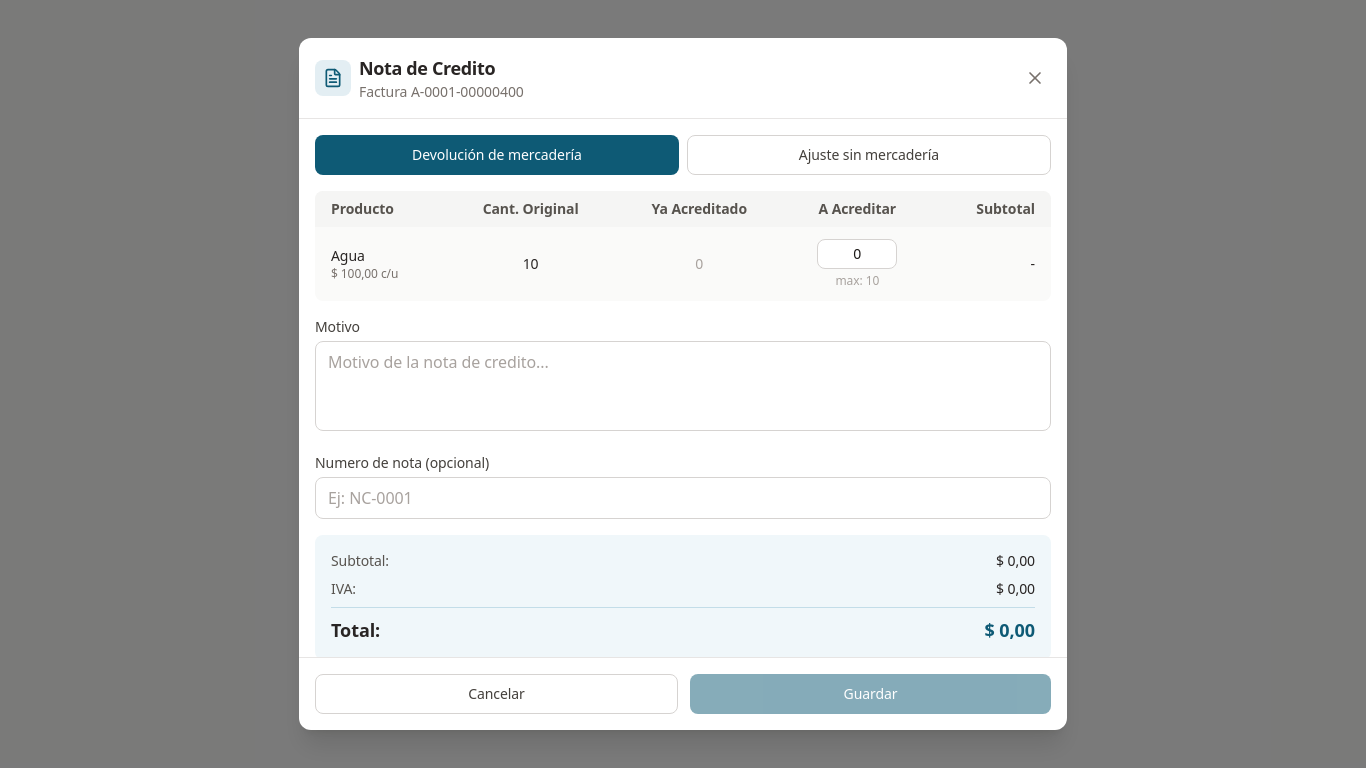
Scenario: ModalNotaCredito — aviso de la devolución cuando hay un ajuste (#1590-c) › un ajuste ANULADO no pone tope: la devolución no muestra el aviso (B18, mig 526)
This screenshot has width=1366, height=768.
In the field named "Cantidad a acreditar de Agua": (857, 254) 817,239 -> 897,269, type "9"
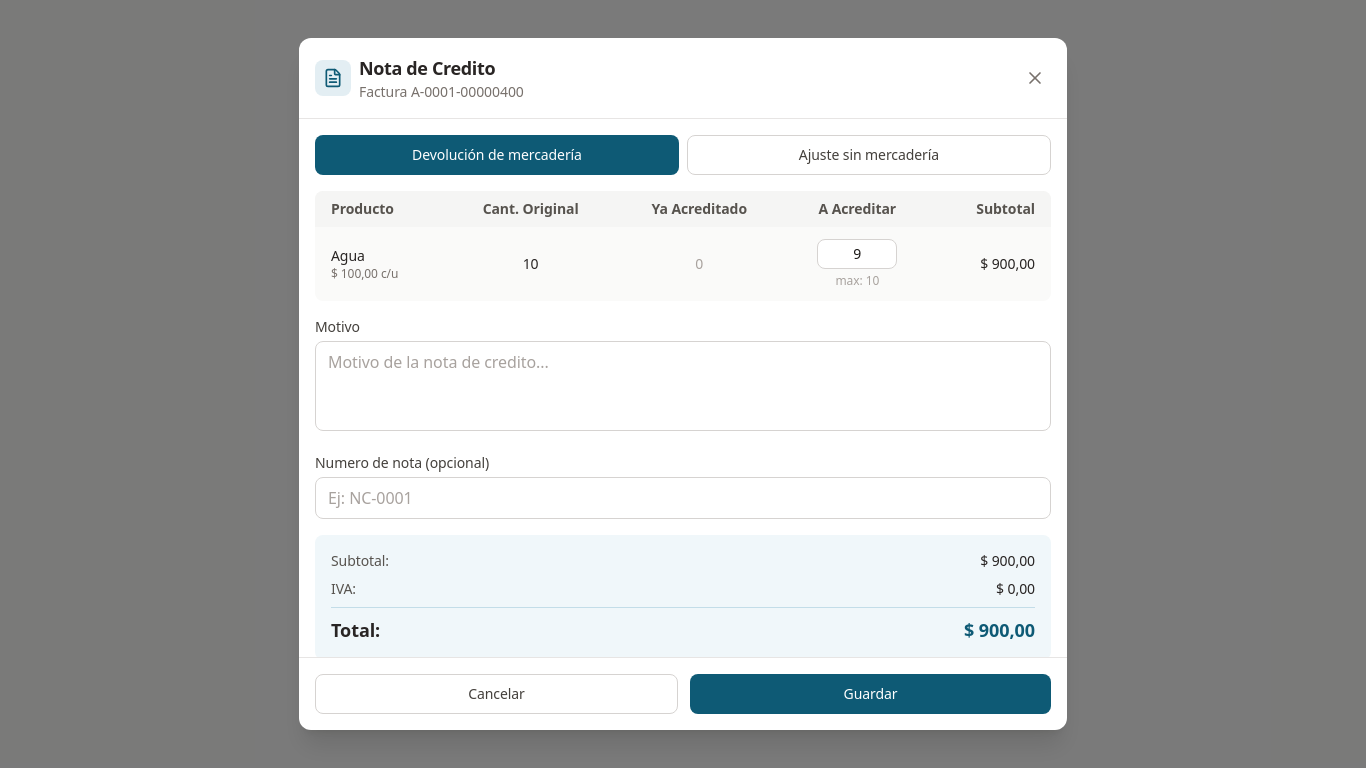
expect the button "Guardar" is enabled: met, box 690,674 -> 1051,714
